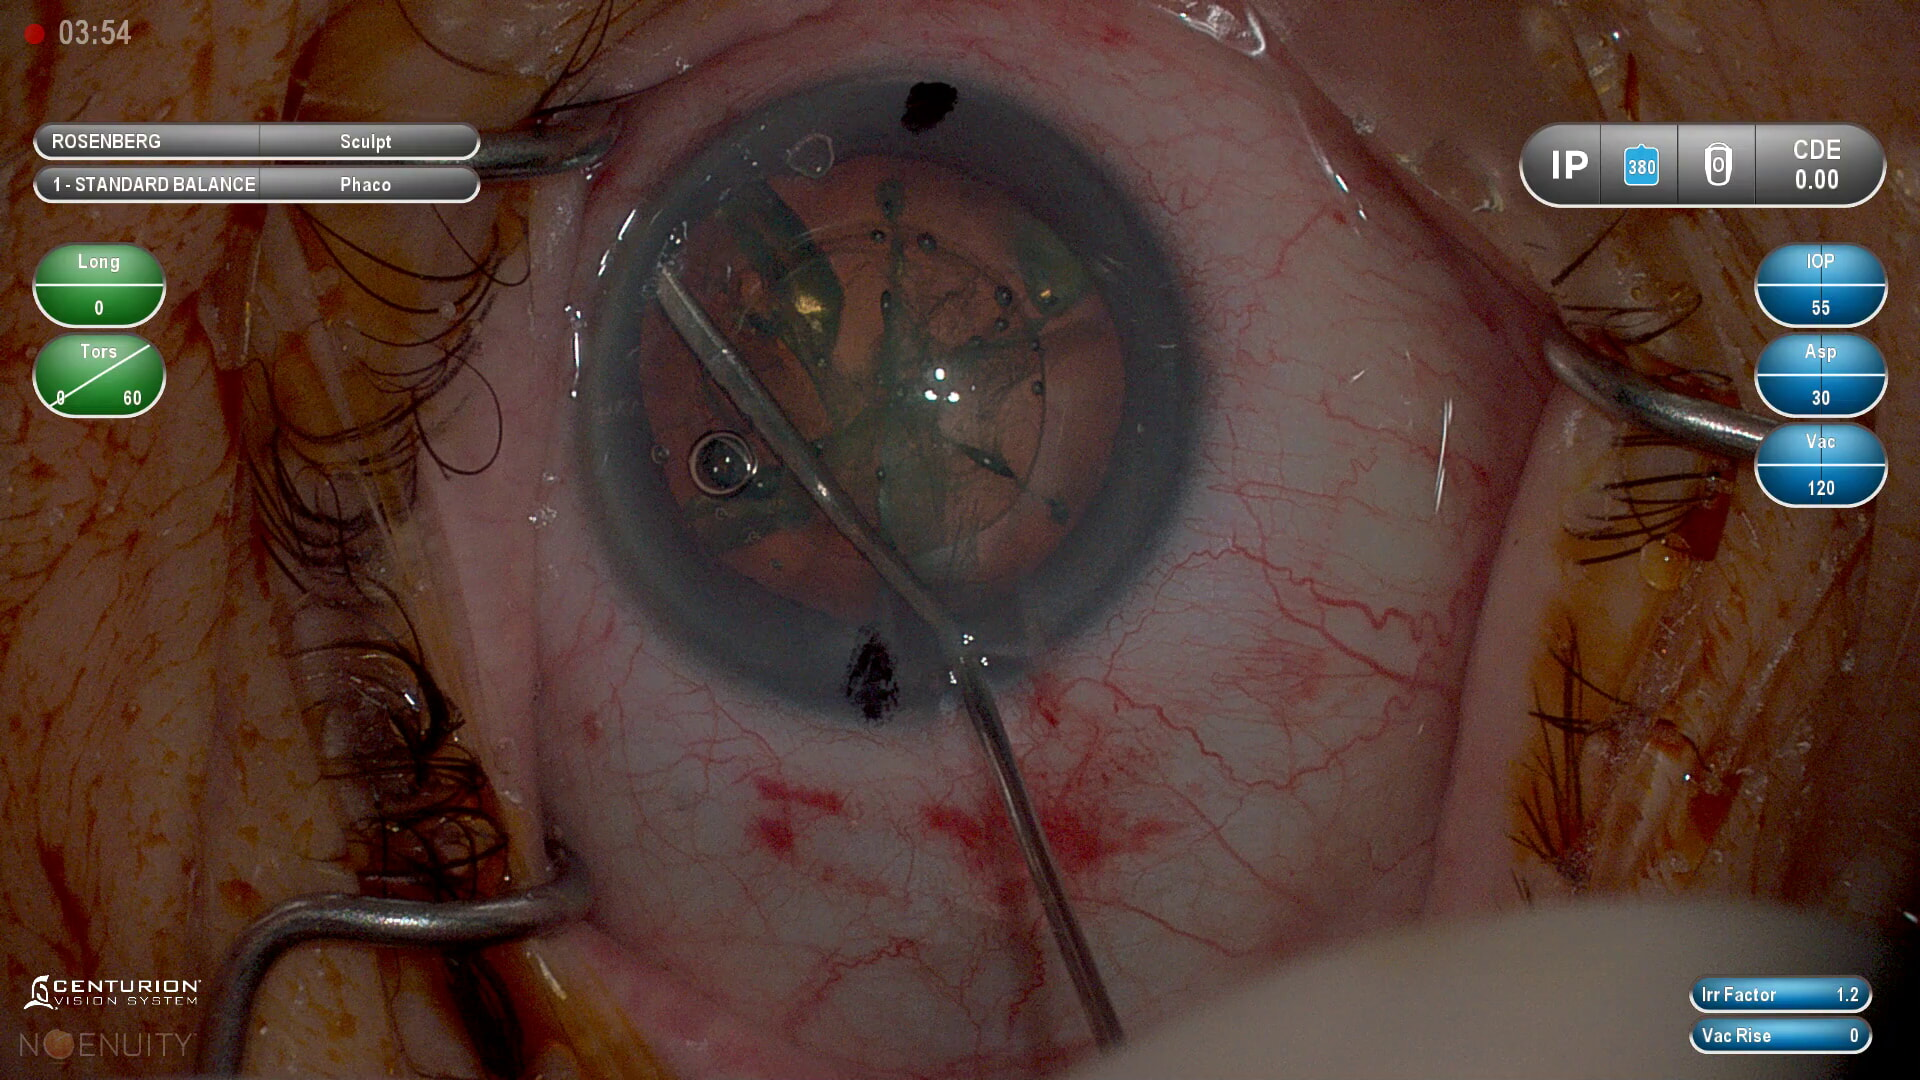iris: (574, 82, 1211, 712)
pupil: (644, 156, 1125, 619)
